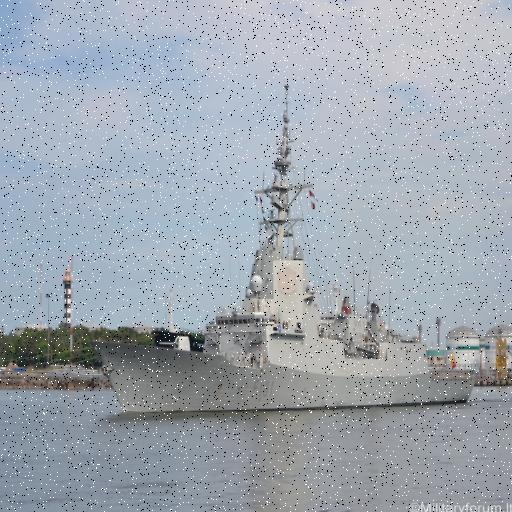Fragata: (87, 86, 483, 422)
